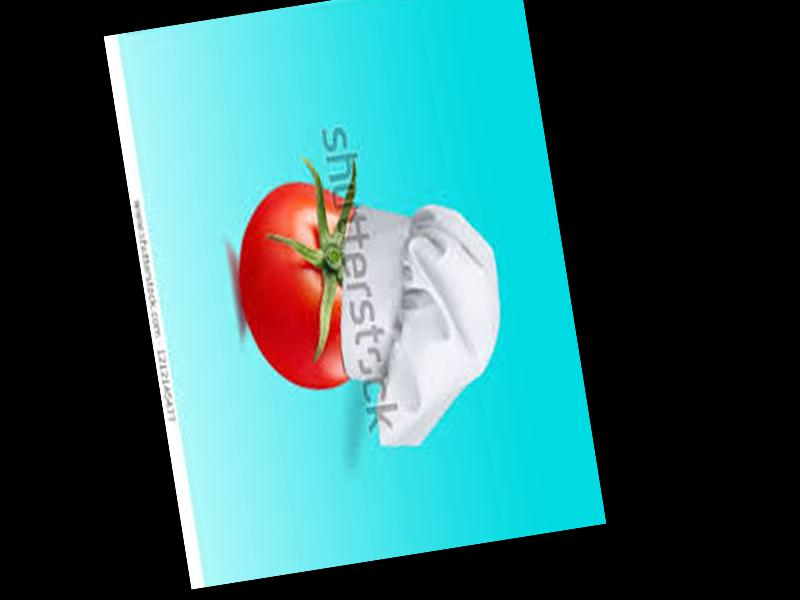Tomato: (227, 177, 383, 399)
